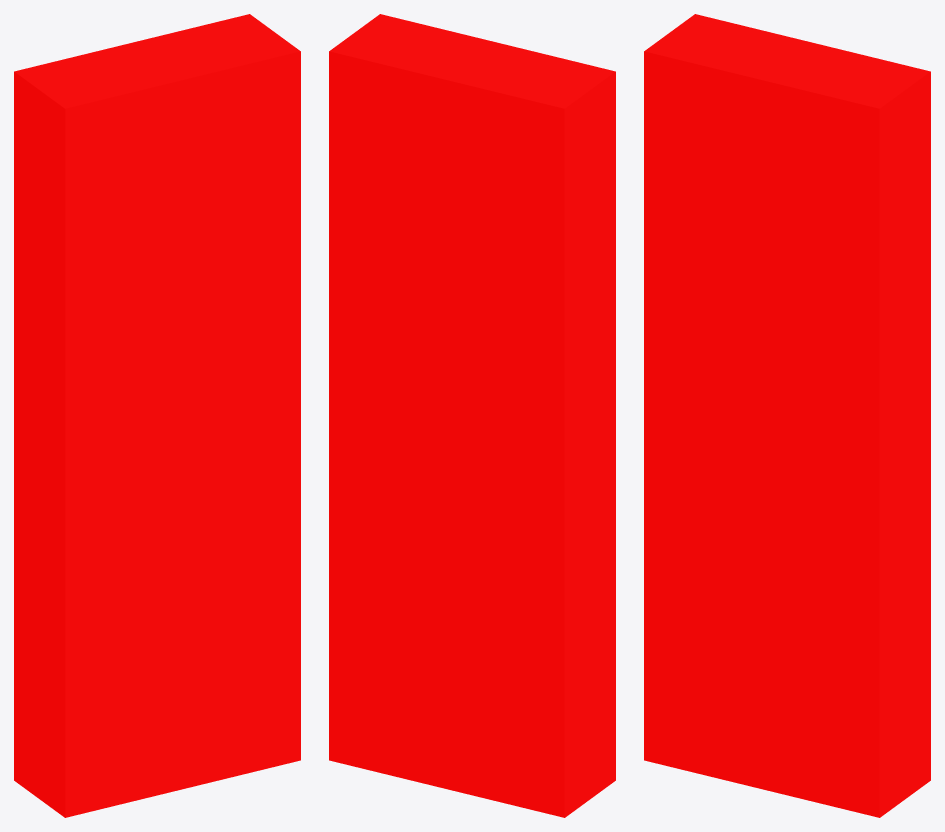
Rendered from Items.fbx_Wrench.fbx.
The picture shows the model from 3 angles, left to right: view 1: azimuth 30°, elevation 25°; view 2: azimuth 150°, elevation 25°; view 3: azimuth 330°, elevation 25°; orthographic projection.
Parts seen in each view (by area): view 1: IN.003; view 2: IN.003; view 3: IN.003.
Part boxes in pixels (x1,y1,x2,y2): IN.003: [14, 14, 300, 817]; IN.003: [329, 14, 615, 817]; IN.003: [644, 14, 930, 817].
Bounding box in the file's own units: 16 × 46 × 6.
